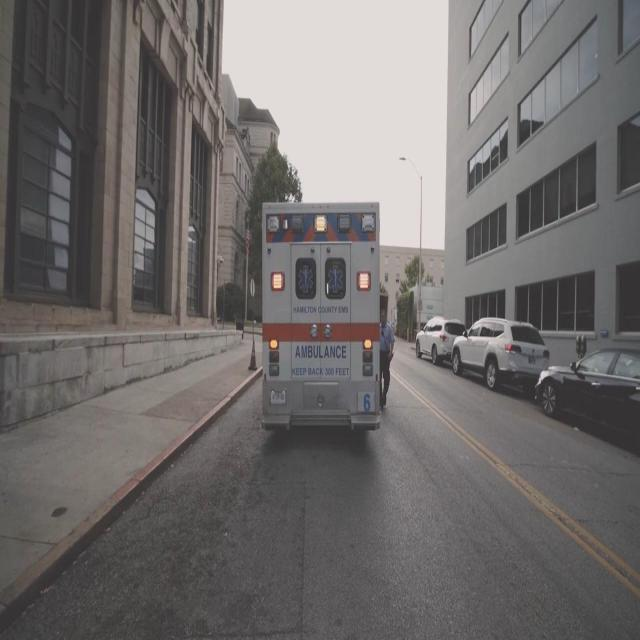no-helmet: (381, 312, 386, 326)
